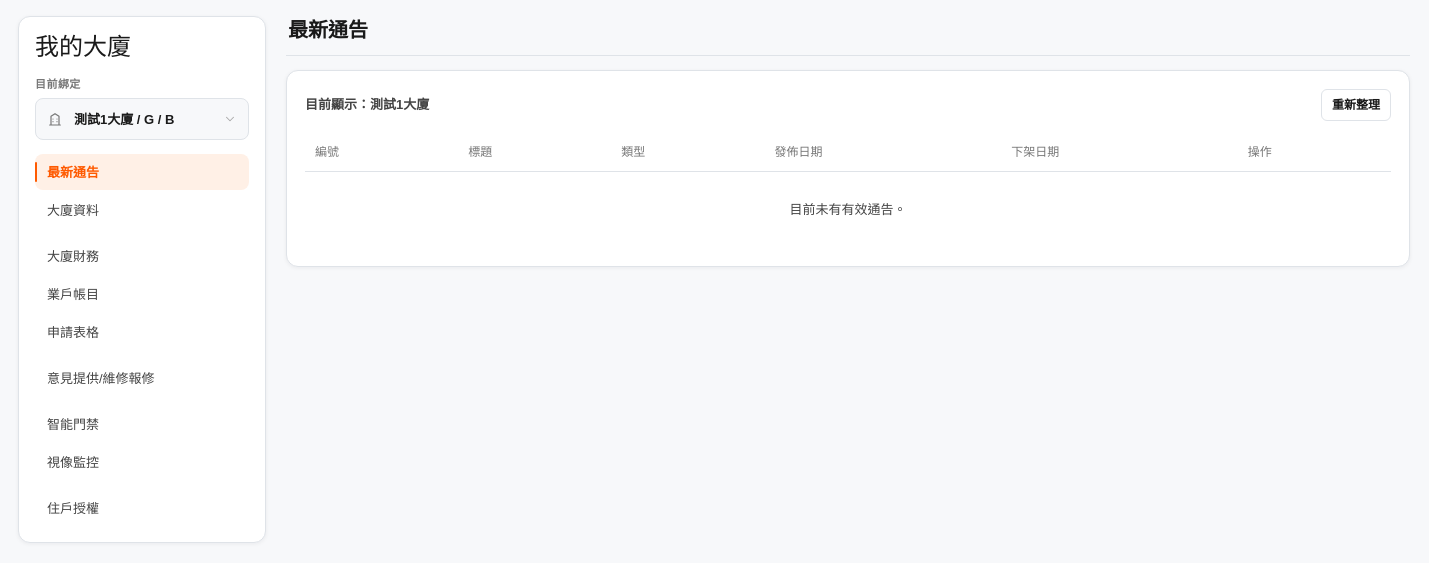
Test: BuildingPage binding refresh › shows building cameras without exposing iCCTV device names
Click the button with class "work-nav-item" showing "視像監控": x=142, y=462 [35,444,249,480]
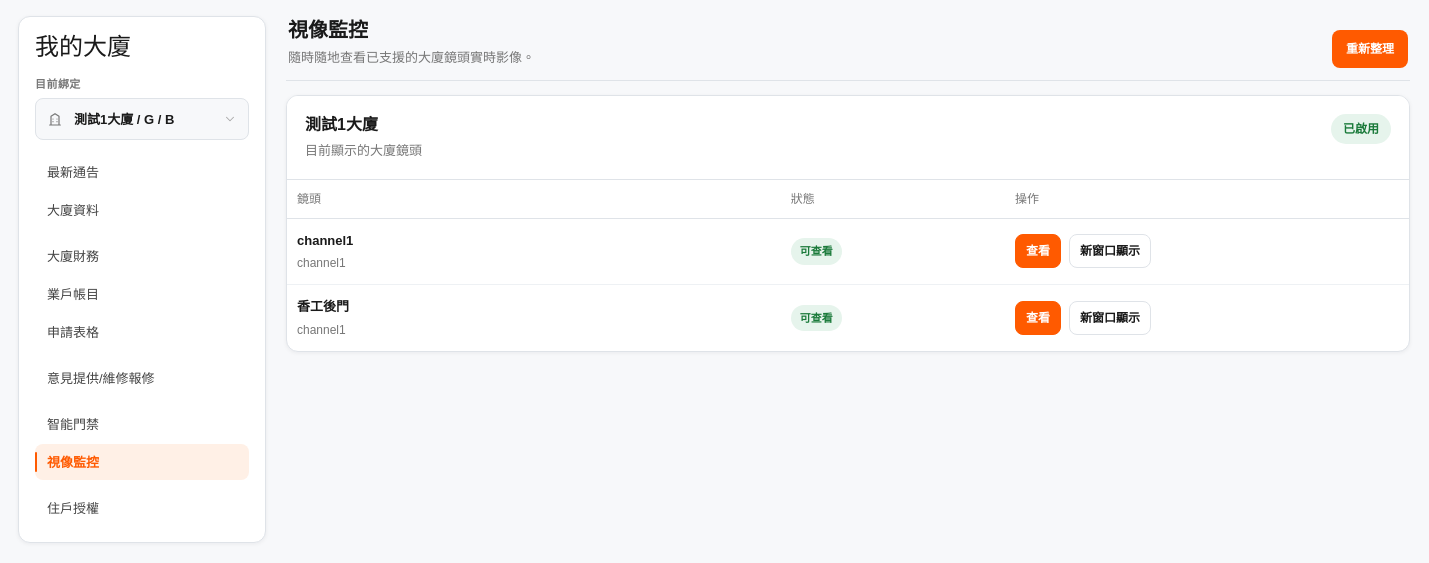
Check: the text with class "work-desc" reads "隨時隨地查看已支援的大廈鏡頭實時影像。", box [288,50,535,65]
Check: the text "目前顯示的大廈鏡頭" is shown, box [305,141,422,161]
Check: the element that starts with "視像監控" shows "channel1", box [297,233,353,248]
